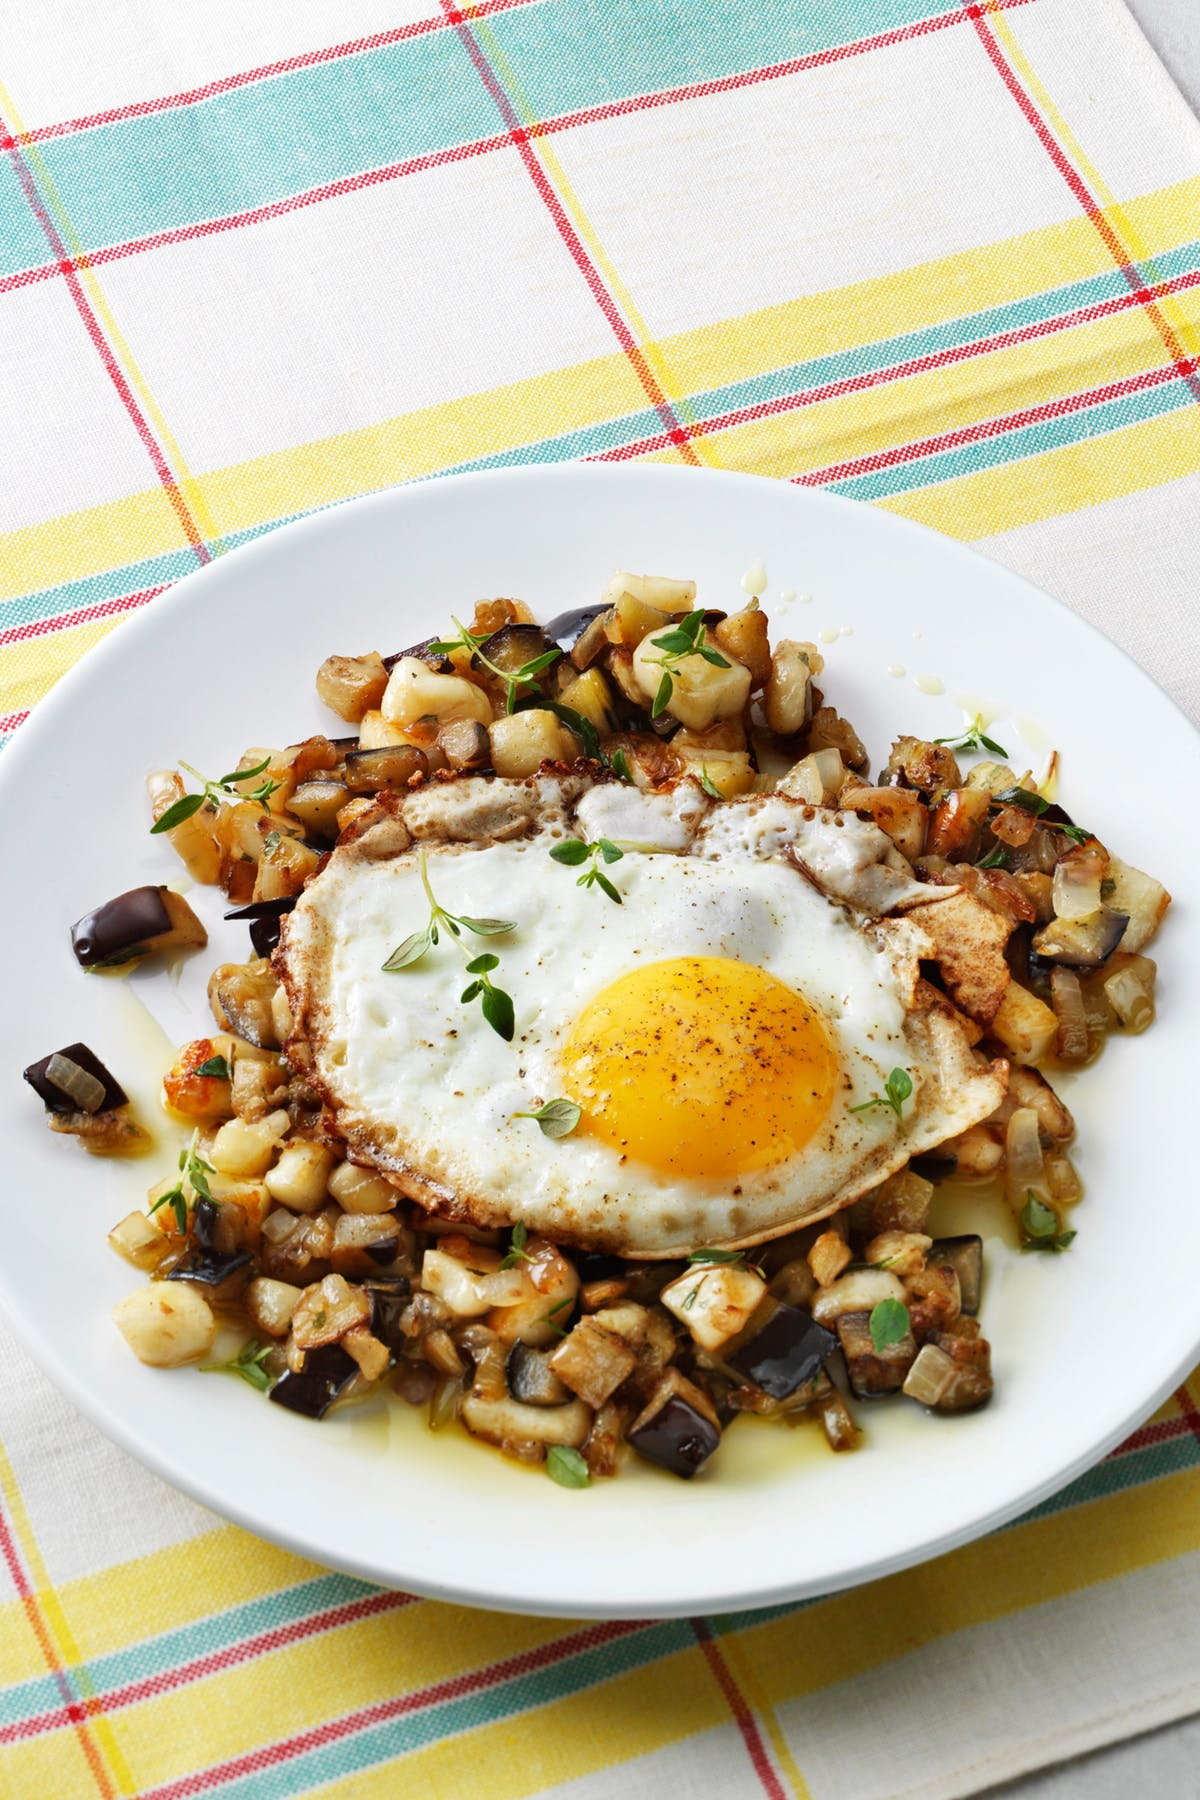fried egg: (329, 862, 923, 1221)
